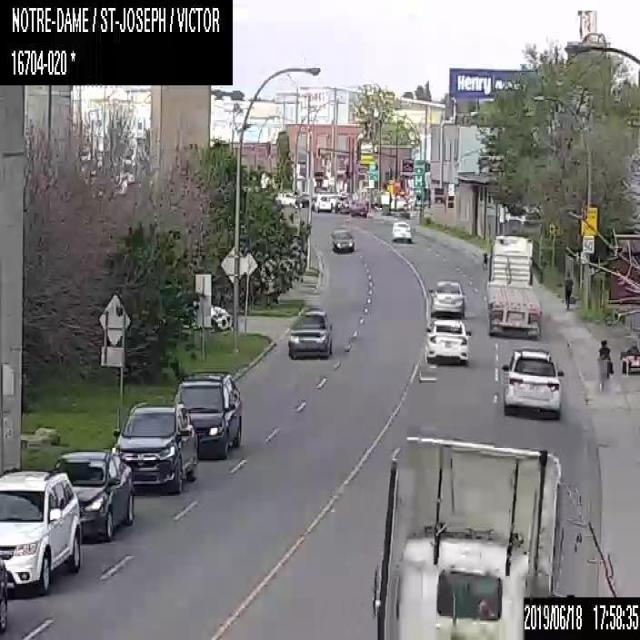construction: (605, 226, 639, 372)
pedestrian: (595, 338, 613, 393), (563, 271, 573, 309)
vehicle: (371, 433, 564, 639), (0, 468, 80, 593), (111, 400, 197, 492), (50, 451, 133, 537), (483, 234, 541, 339), (173, 371, 241, 457), (501, 348, 563, 418), (288, 307, 332, 358), (425, 318, 471, 364), (427, 279, 465, 317), (189, 300, 232, 330), (330, 228, 354, 252), (391, 220, 412, 242), (0, 556, 6, 630), (294, 193, 316, 208), (274, 192, 296, 205), (350, 200, 366, 217), (314, 195, 330, 211), (334, 195, 348, 212)
